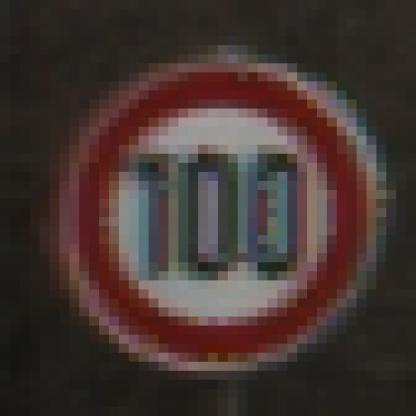Speed Limit 100: (67, 66, 367, 365)
